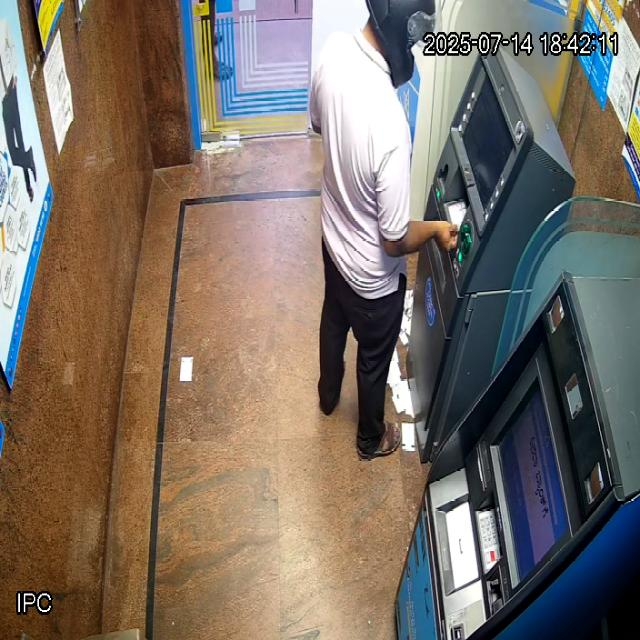helmet: (364, 0, 436, 89)
